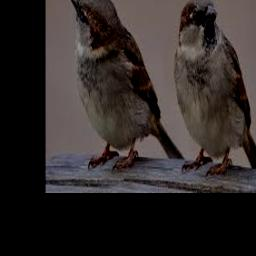Sparrow: (70, 0, 186, 171), (173, 0, 256, 175)
